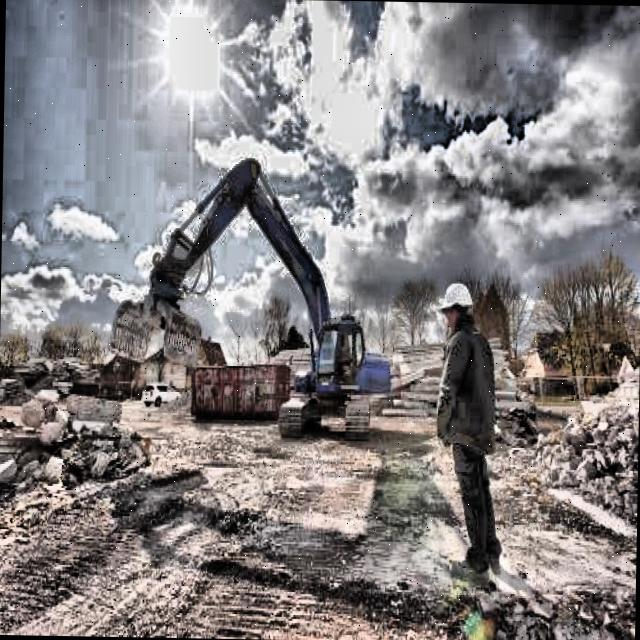helmet: (438, 278, 472, 334)
